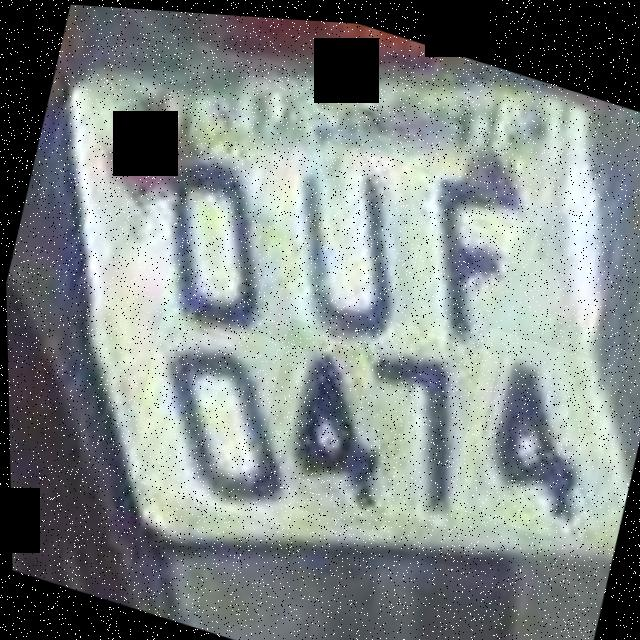0: (119, 302, 328, 528)
4: (443, 318, 623, 542), (245, 311, 421, 531)
7: (333, 309, 501, 527)
F: (398, 152, 548, 356)
O: (122, 130, 309, 349)
U: (248, 125, 447, 362)
